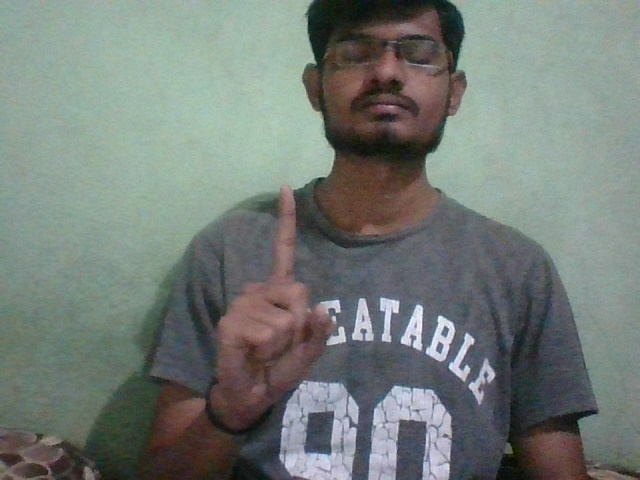where: (189, 178, 359, 400)
